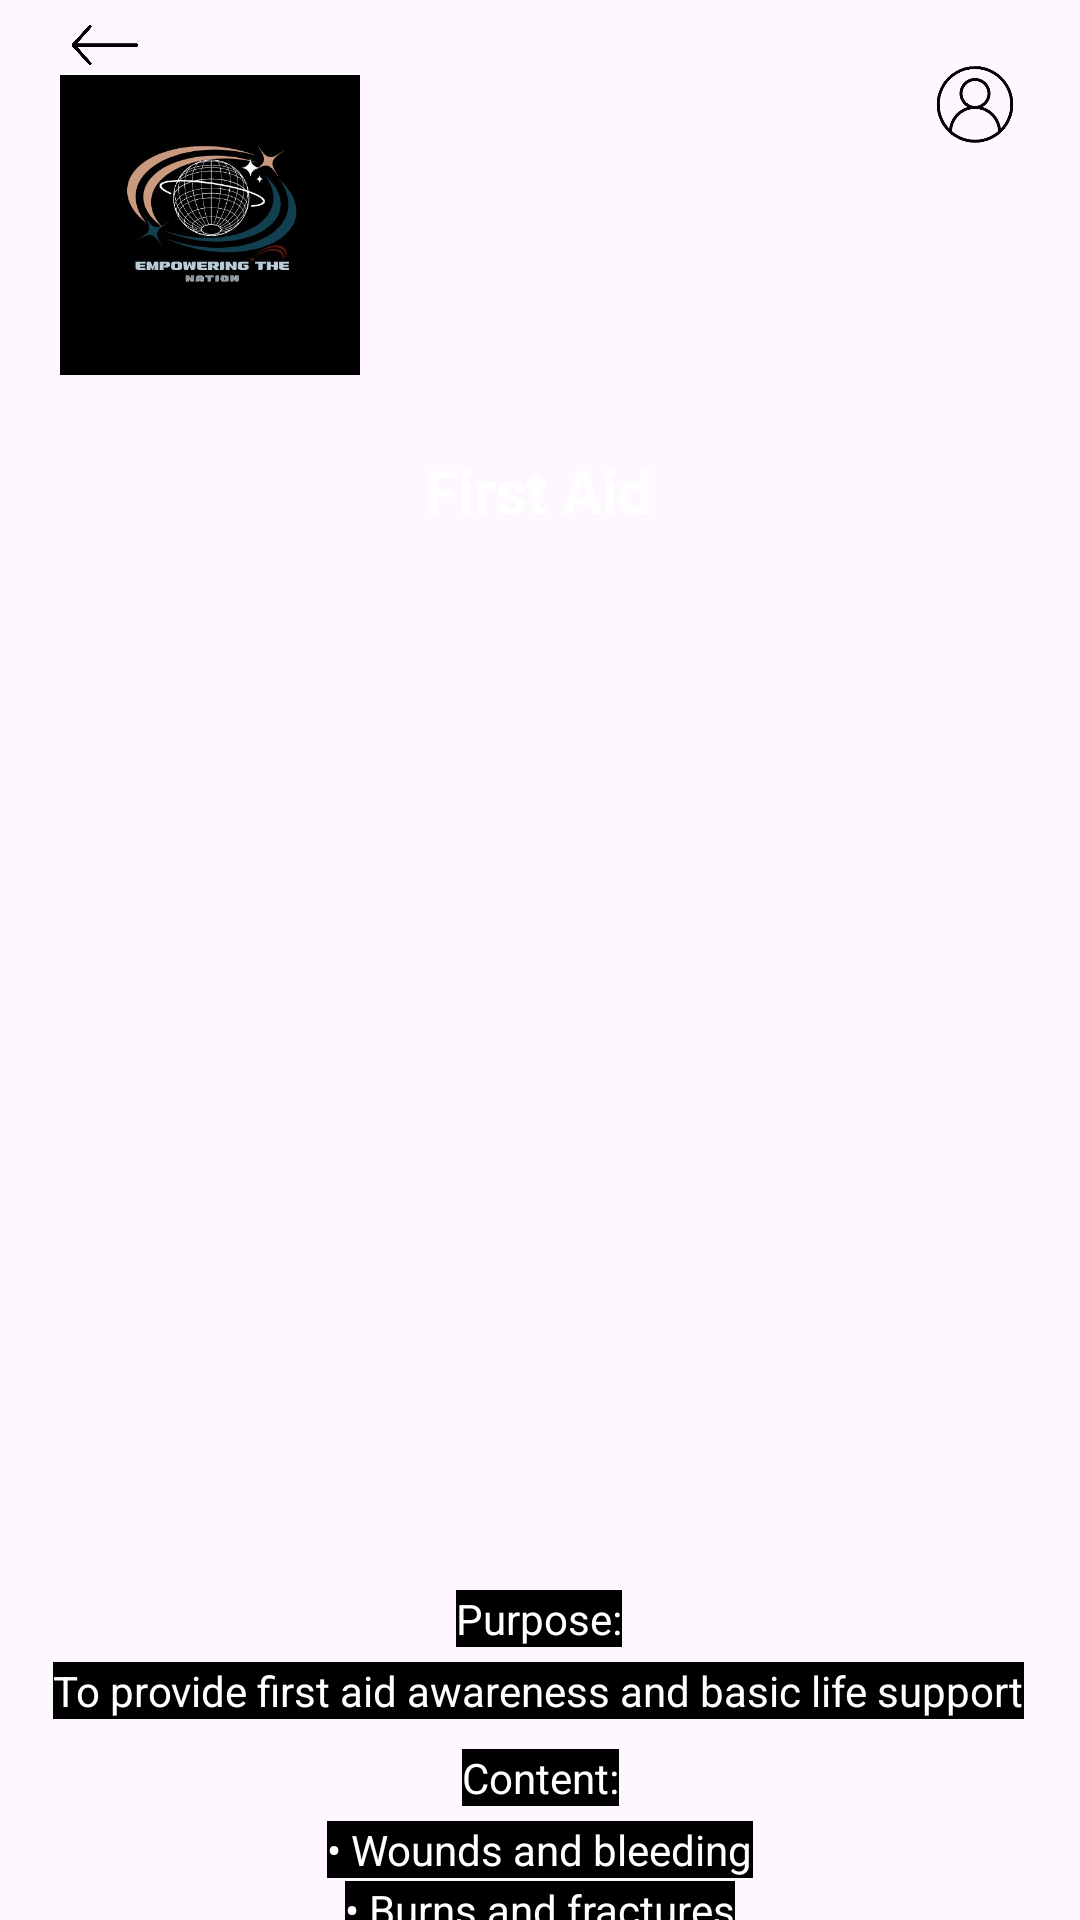

Where icons sit on this 1080×1920 app screen, as bbox=[x1, y1, x2, y2]:
back: bbox=[72, 25, 138, 65]
